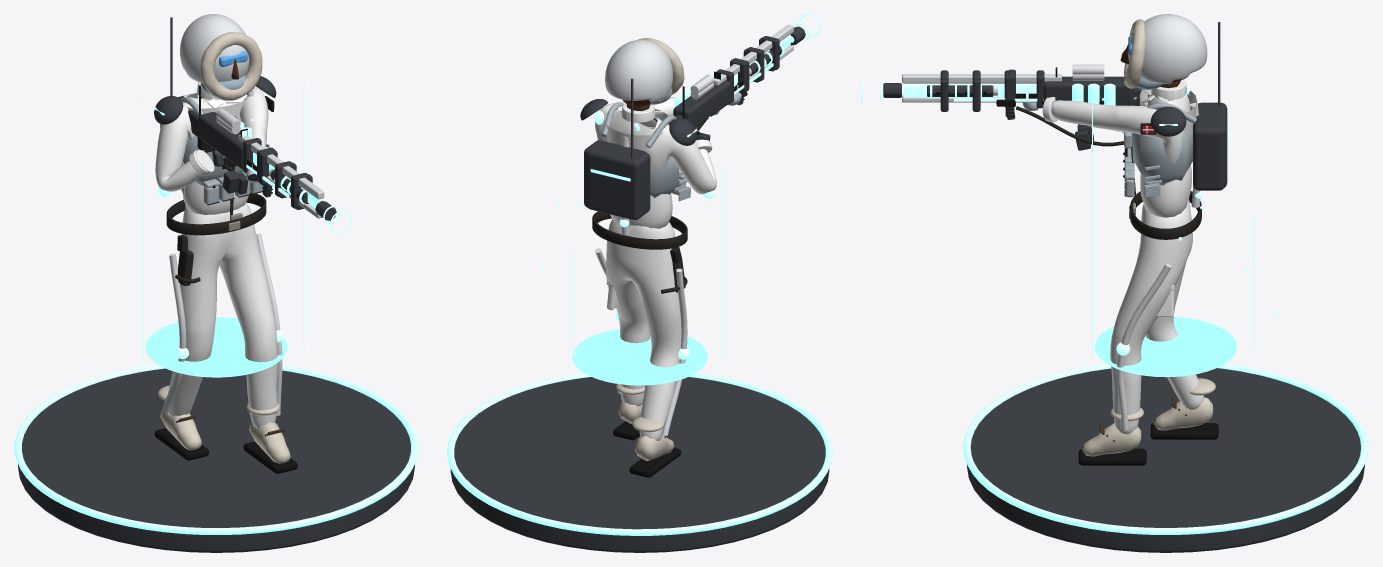
Rendered from skinne_arktis.glb.
The picture shows the model from 3 angles, left to right: view 1: azimuth 30°, elevation 25°; view 2: azimuth 150°, elevation 25°; view 3: azimuth 270°, elevation 25°; orthographic projection. The views are drawn at different scales.
Parts seen in each view (by area): view 1: fod_net, menneske_net, hoved_net, op4.001_net, op1_net, vaaben_net, op4_net, op1.001_net, op3.001_net, ned1.001_net, op4.002_net, op3_net; view 2: fod_net, menneske_net, op4_net, op4.001_net, hoved_net, op1_net, vaaben_net, op1.001_net, op3.001_net, ned1.001_net, ned4_net, op4.002_net; view 3: fod_net, menneske_net, op4.001_net, hoved_net, op1_net, vaaben_net, ned4_net, ned1.001_net, op4_net, op1.001_net, op3.001_net, op3_net.
Boxes of the visible parts, left/top/right/bottom form: fod_net: left=14, top=364, right=418, bottom=552; menneske_net: left=154, top=82, right=297, bottom=473; hoved_net: left=180, top=14, right=262, bottom=100; op4.001_net: left=139, top=83, right=304, bottom=377; op1_net: left=166, top=85, right=269, bottom=285; vaaben_net: left=188, top=110, right=322, bottom=218; op4_net: left=158, top=94, right=284, bottom=415; op1.001_net: left=216, top=108, right=324, bottom=208; op3.001_net: left=154, top=17, right=276, bottom=124; ned1.001_net: left=216, top=117, right=324, bottom=209; op4.002_net: left=194, top=86, right=352, bottom=233; op3_net: left=270, top=169, right=336, bottom=220; fod_net: left=447, top=372, right=832, bottom=552; menneske_net: left=595, top=90, right=747, bottom=477; op4_net: left=586, top=111, right=715, bottom=435; op4.001_net: left=541, top=116, right=723, bottom=385; hoved_net: left=605, top=38, right=684, bottom=107; op1_net: left=592, top=86, right=703, bottom=293; vaaben_net: left=668, top=45, right=793, bottom=140; op1.001_net: left=690, top=30, right=793, bottom=131; op3.001_net: left=580, top=78, right=697, bottom=158; ned1.001_net: left=690, top=24, right=793, bottom=99; ned4_net: left=584, top=140, right=690, bottom=207; op4.002_net: left=634, top=14, right=820, bottom=140; fod_net: left=963, top=363, right=1368, bottom=552; menneske_net: left=1023, top=79, right=1218, bottom=465; op4.001_net: left=1092, top=92, right=1278, bottom=377; hoved_net: left=1120, top=14, right=1207, bottom=89; op1_net: left=1115, top=93, right=1201, bottom=239; vaaben_net: left=902, top=70, right=1172, bottom=108; ned4_net: left=1145, top=104, right=1224, bottom=194; ned1.001_net: left=902, top=69, right=1104, bottom=111; op4_net: left=1116, top=102, right=1228, bottom=430; op1.001_net: left=902, top=64, right=1123, bottom=146; op3.001_net: left=1150, top=22, right=1220, bottom=136; op3_net: left=883, top=83, right=993, bottom=97.
Bounding box in the file's own units: 1.94 × 2.39 × 2.42.
